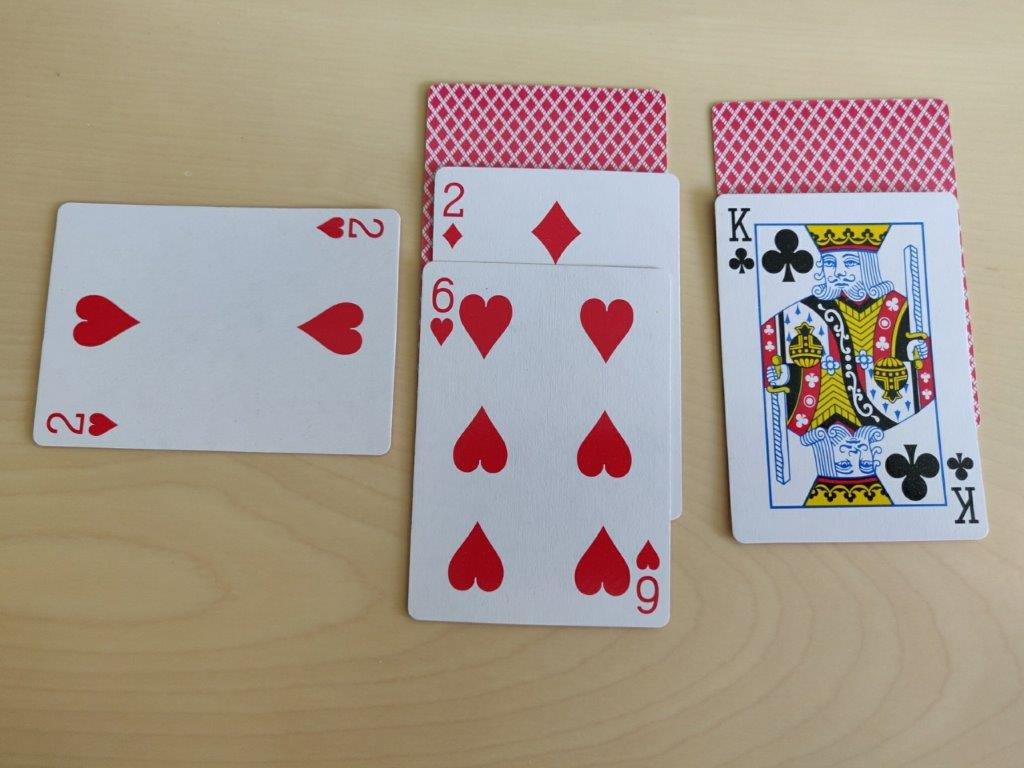2D: (437, 174, 469, 253)
6H: (426, 266, 458, 354)
BACK: (712, 97, 955, 196), (423, 83, 667, 171)
KC: (719, 201, 764, 276)
